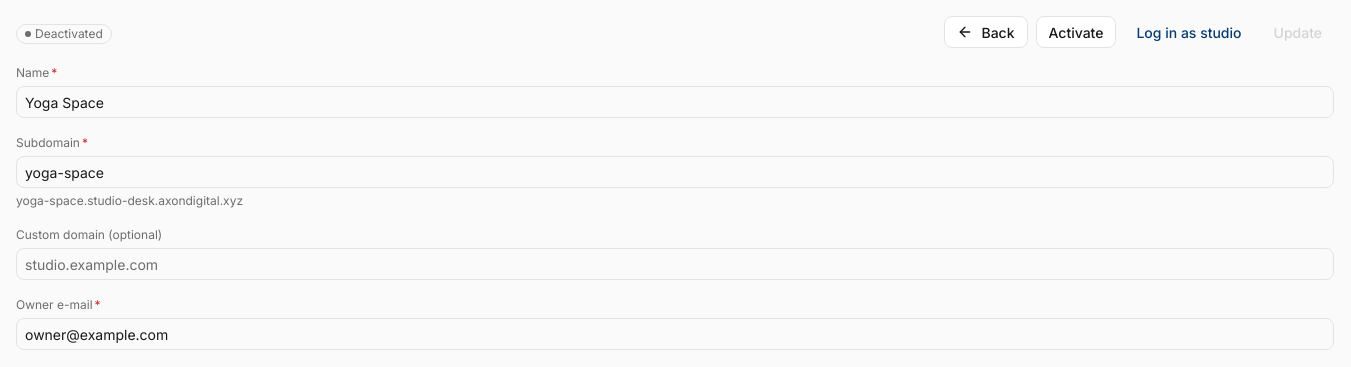
StudioPage: actions › activates at once, without a window
Click the button "Activate" at (1076, 32), box [1036,16,1116,48]
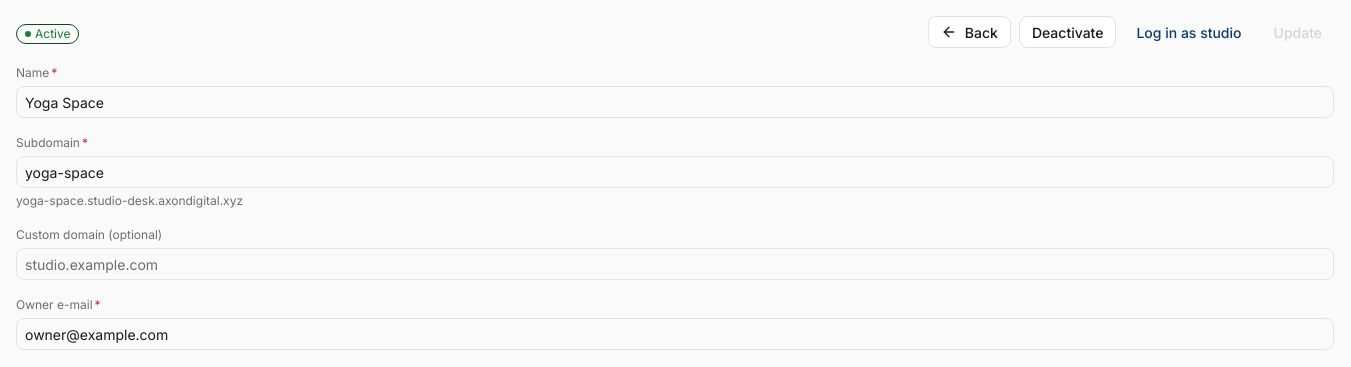
Expected: the button "Deactivate" is shown, [1019,16,1116,48]
